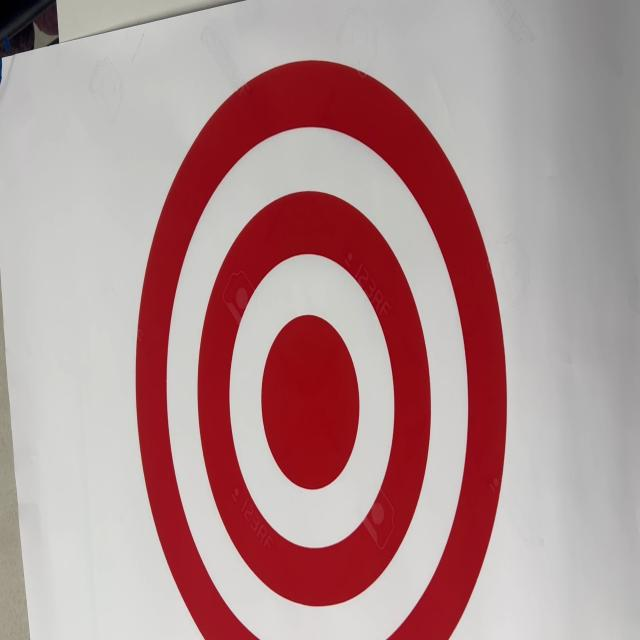target_red: (125, 39, 526, 640)
